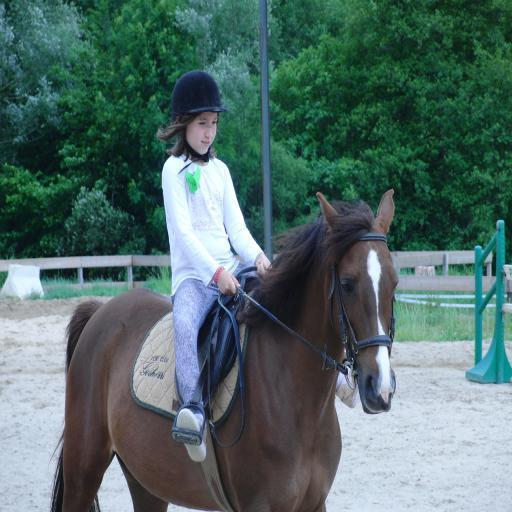horse: (48, 186, 400, 512)
